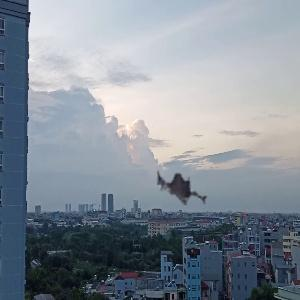drone: (137, 156, 228, 247)
